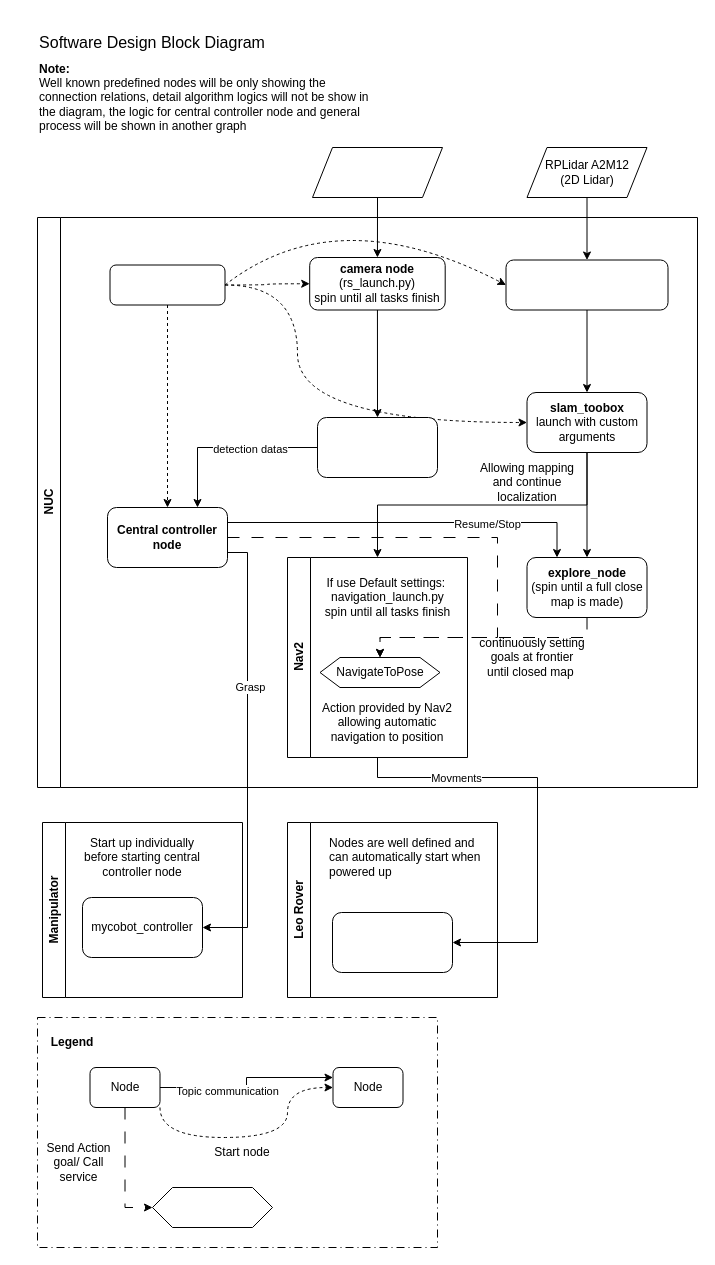
This 715x1265 diagram has some shape labels left out. The shapes that lost their labels are listed below. From the top down, each one's centre as x and y in pixels, then its label:
point (377, 172): RealSense D4531 (depth camera)
point (167, 284): General Launch file
point (586, 284): lidar node (rplidar_a2m12_launch.py) spin until all tasks finish
point (377, 447): rover_vision_node spin until all tasks are finish
point (392, 942): Leo_core Firmware
point (212, 1207): Action/Service
